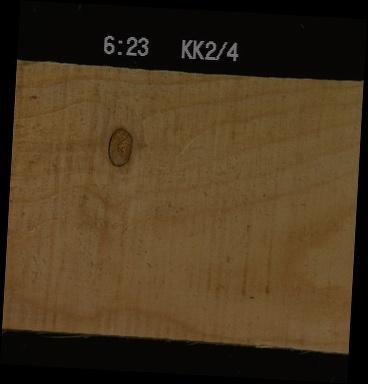dry_knot: (106, 125, 134, 167)
